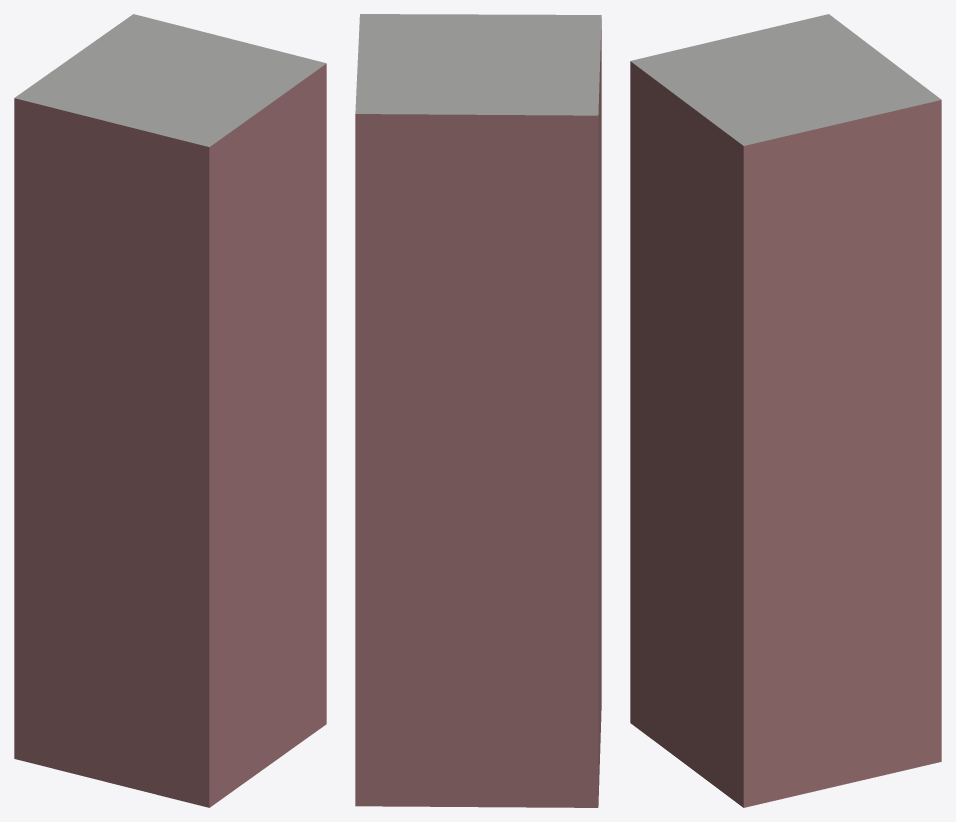
The model's file is nyc-1015255-0.glb.
3 renders of one model, left to right at view 1: azimuth 30°, elevation 25°; view 2: azimuth 150°, elevation 25°; view 3: azimuth 270°, elevation 25°, orthographic. The views are drawn at different scales.
Parts seen in each view (by area): view 1: nyc-1015255-0; view 2: nyc-1015255-0; view 3: nyc-1015255-0.
Boxes of the visible parts, box(x1,y1,x2,y2) form: nyc-1015255-0: box(14, 14, 326, 807); nyc-1015255-0: box(355, 14, 601, 807); nyc-1015255-0: box(630, 14, 941, 807).
Bounding box in the file's own units: 40.63 × 94.97 × 40.52.
